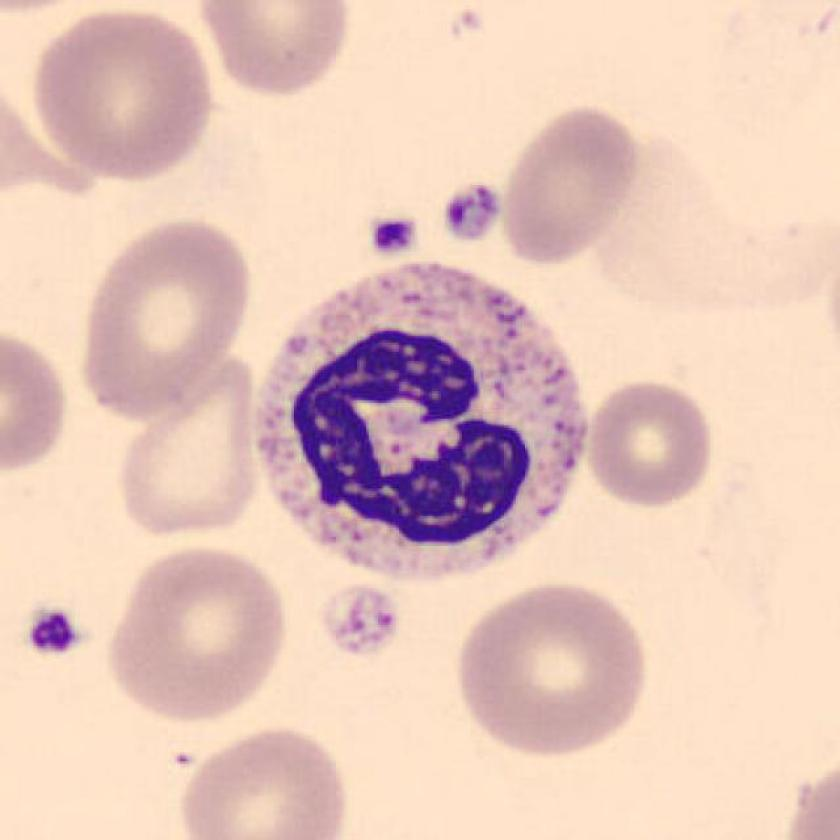neutrophil: (252, 262, 588, 579)
